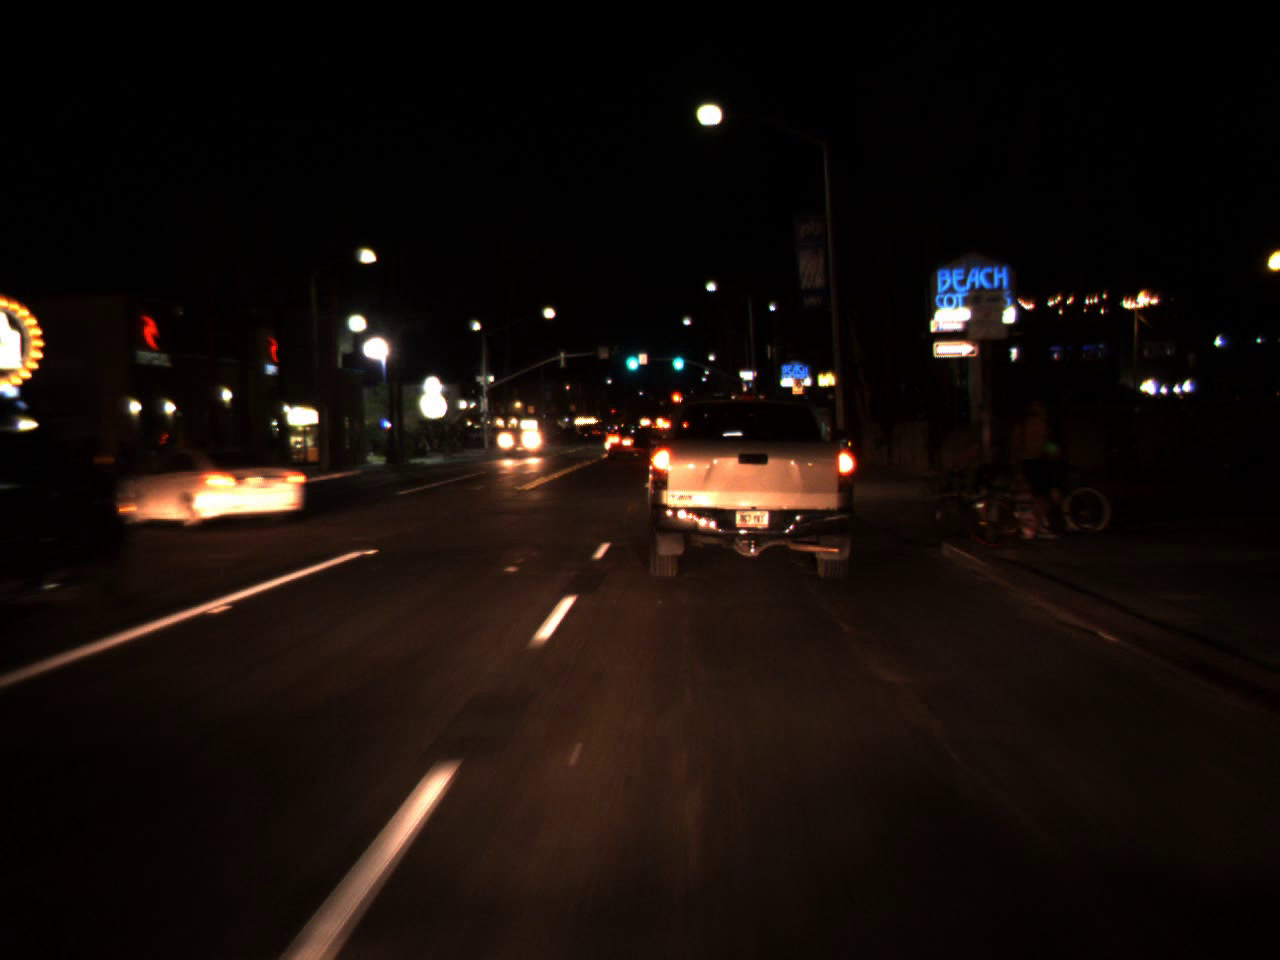go: (621, 340, 642, 376), (669, 341, 685, 374)
